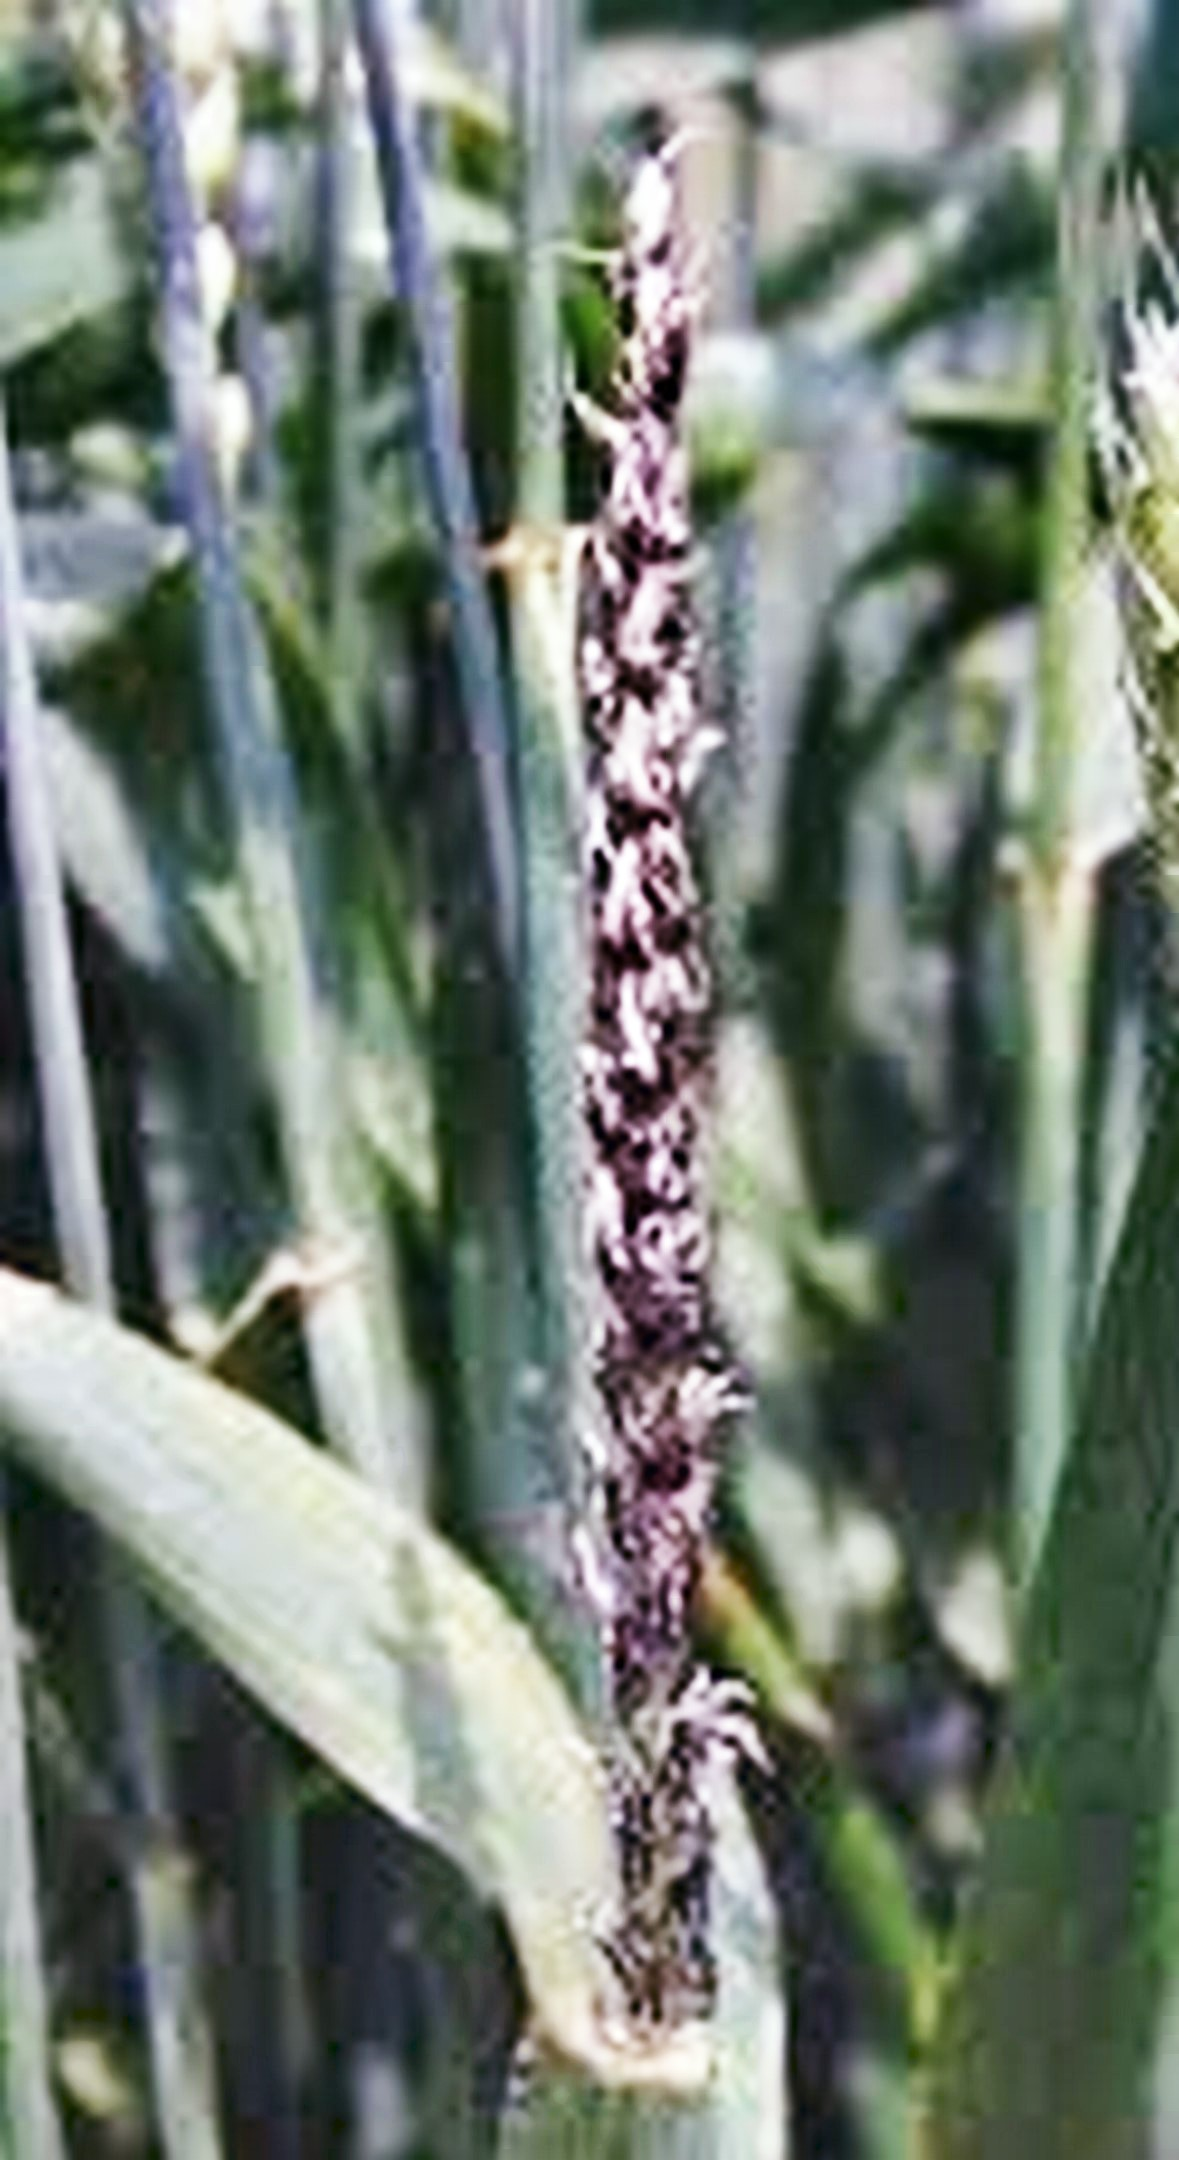Wheat Loose Smut: (520, 210, 832, 1764)
